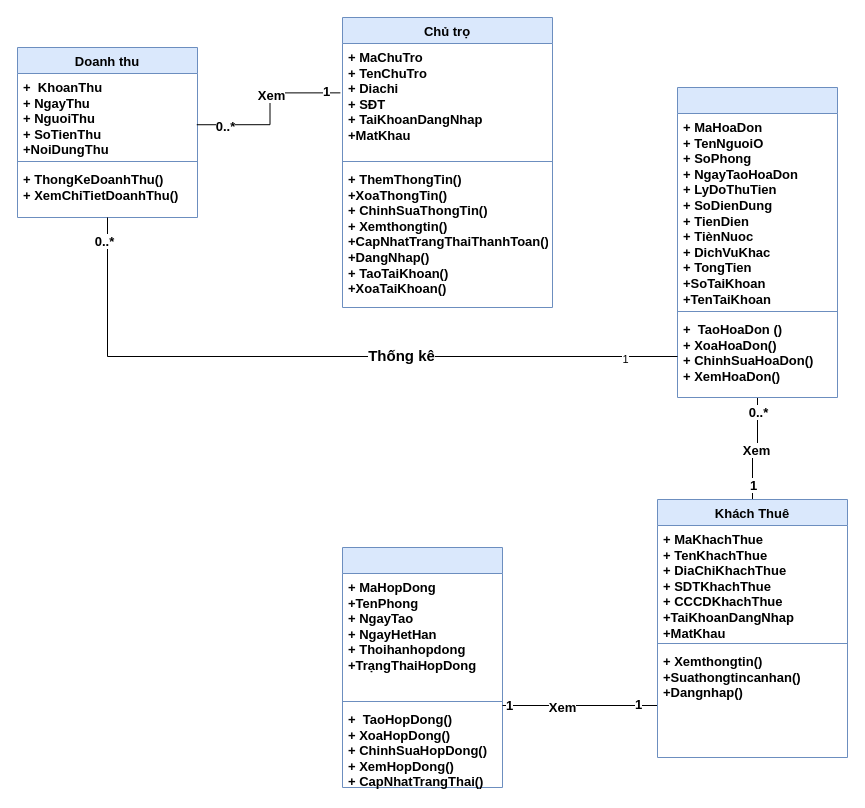
Image size: 865x808. Some labels were removed from this diagram. The shapes that lost their labels are listed below. From the top down, each one's box as (x1, y1, x2, y2) in pixels, then its label:
(676, 86, 838, 398): Hoá đơn
(342, 546, 502, 788): Hợp đồng
